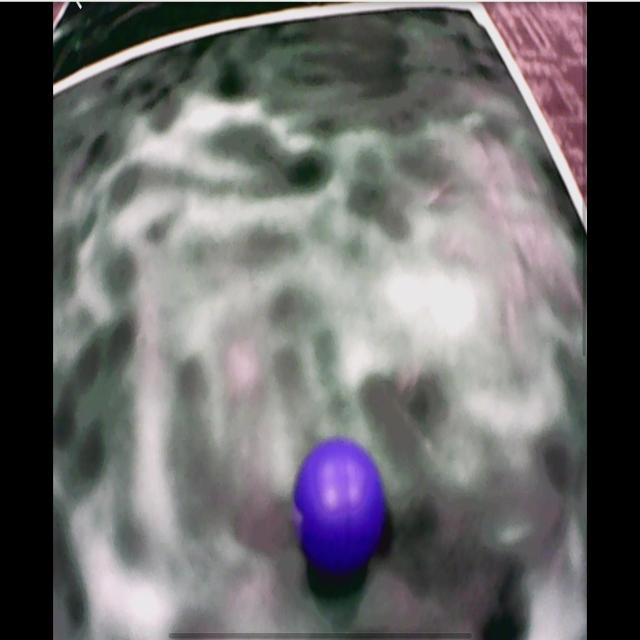ball: (293, 437, 386, 568)
